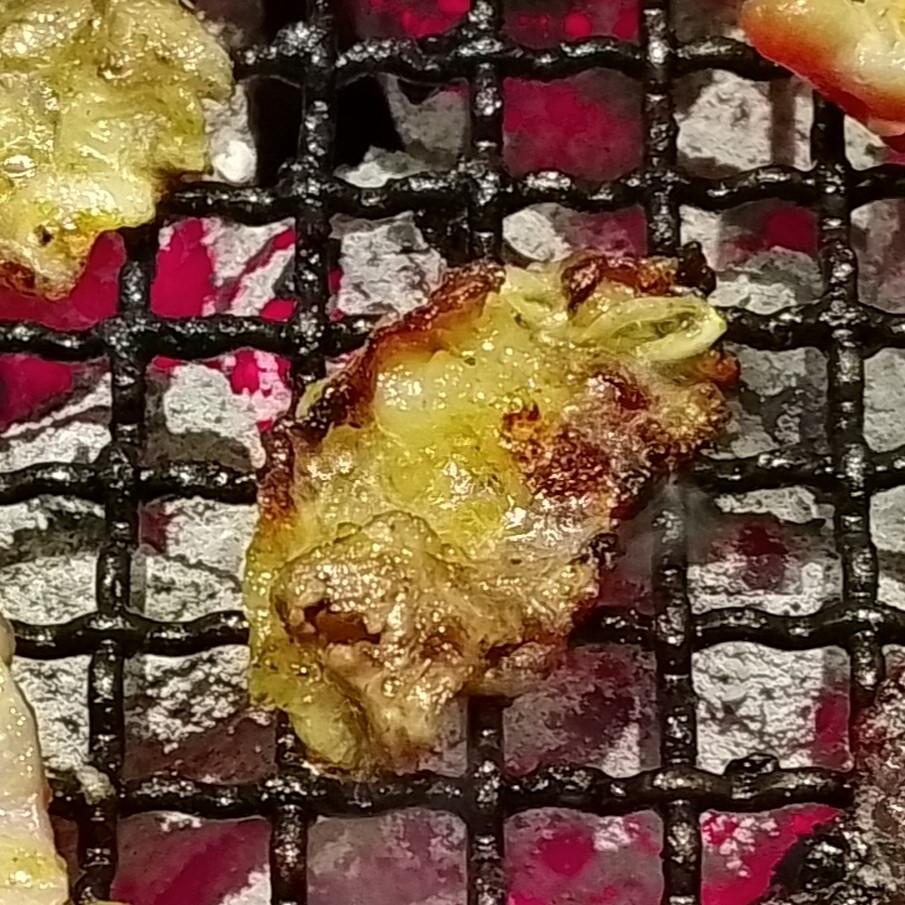Overcooked: (241, 252, 738, 779)
Well-Cooked: (0, 0, 234, 296)
